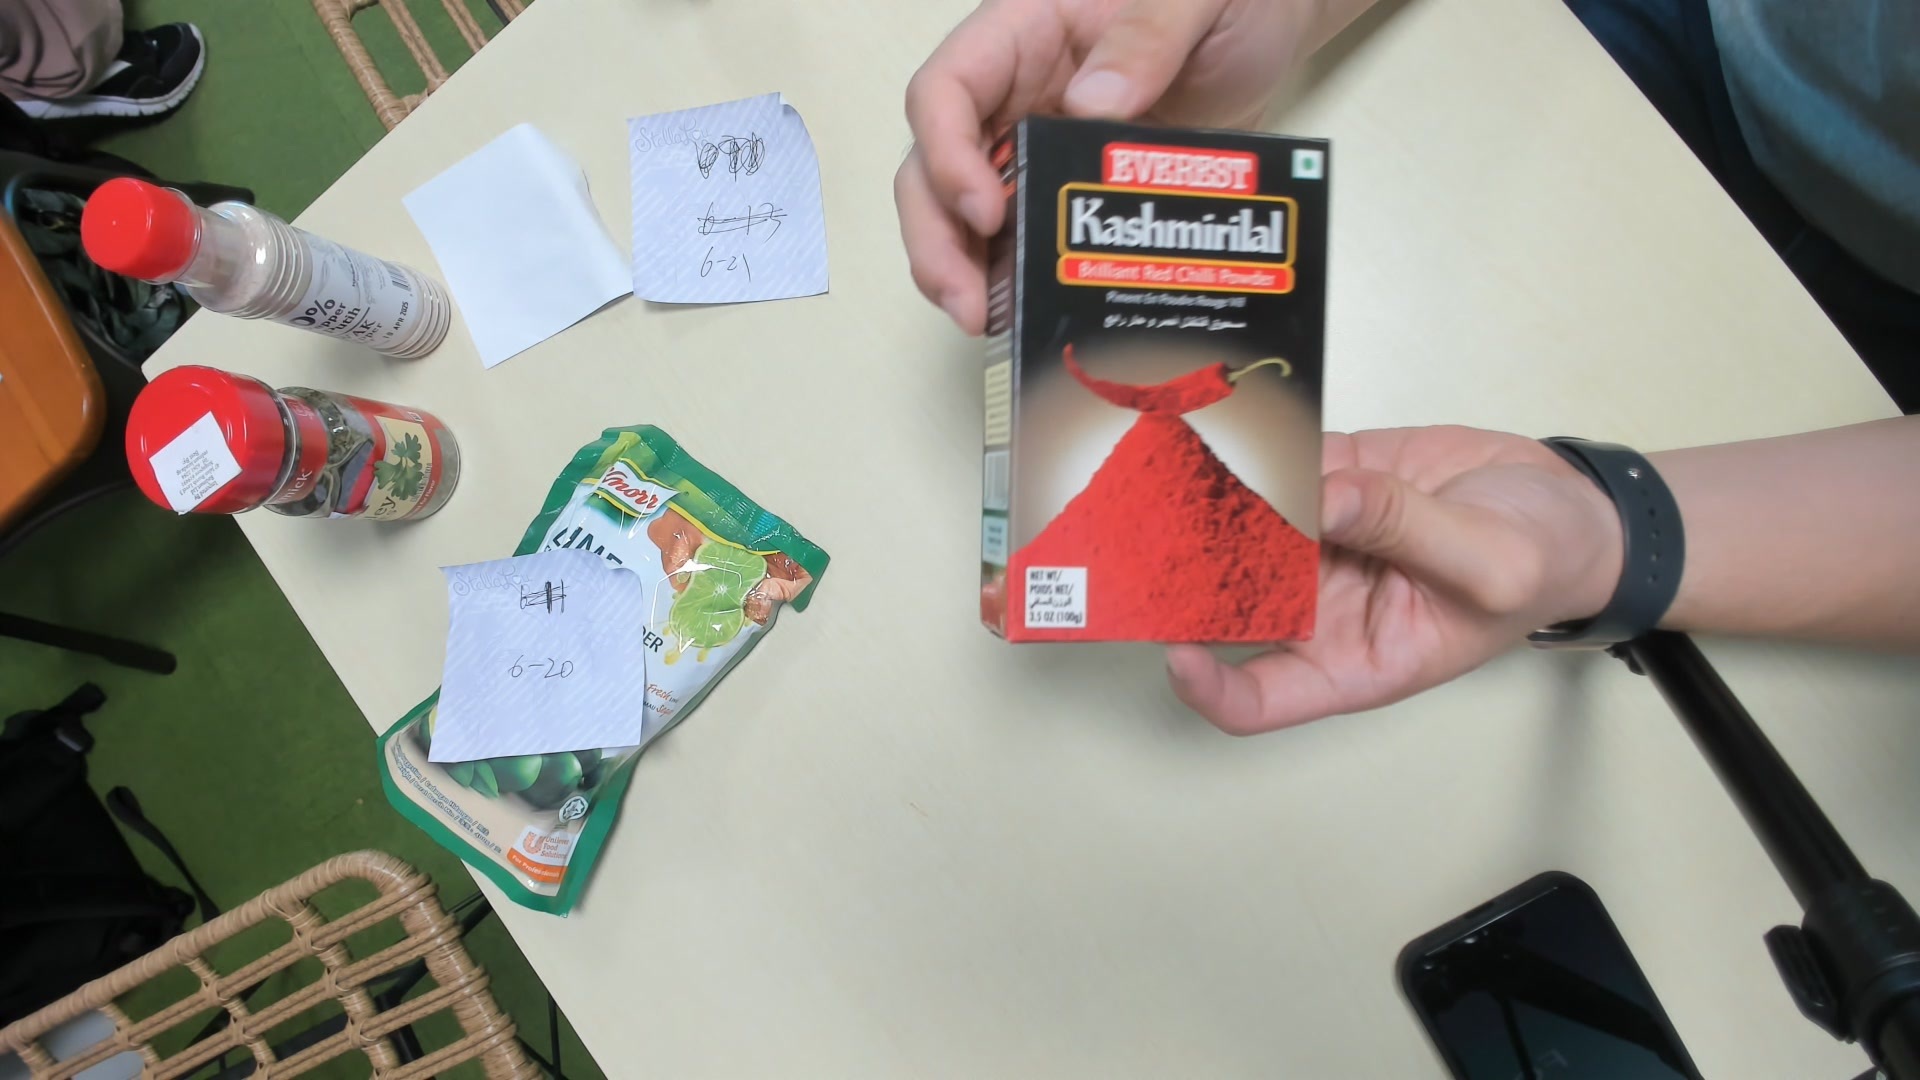HerbsSpicesPepper_100-199g_NonHalal_NonHealthy: (963, 117, 1321, 644)
